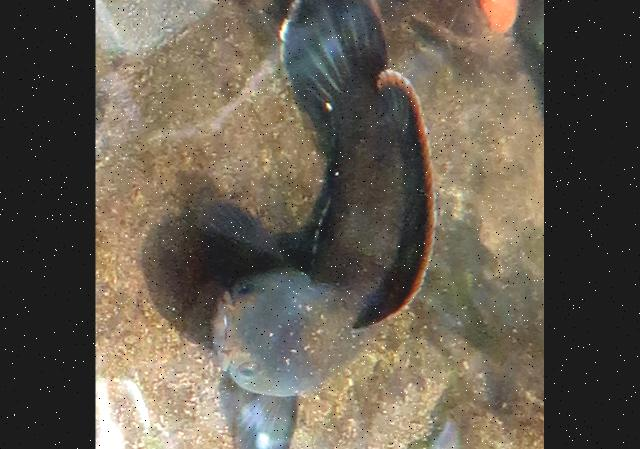Mulut: (198, 282, 239, 379)
Sirip Dada: (194, 198, 286, 284), (229, 387, 303, 449)
Sirip Ekor: (274, 0, 391, 115)
Sirip Punggung: (359, 66, 436, 336)
